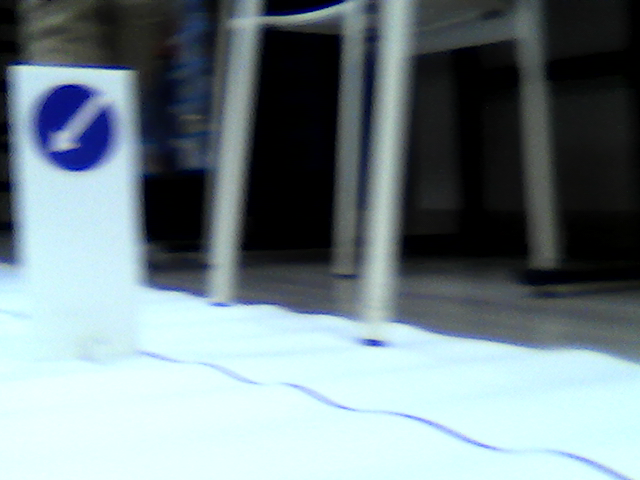prep: (34, 87, 117, 167)
